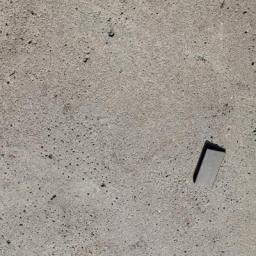FOD: (194, 140, 229, 194)
